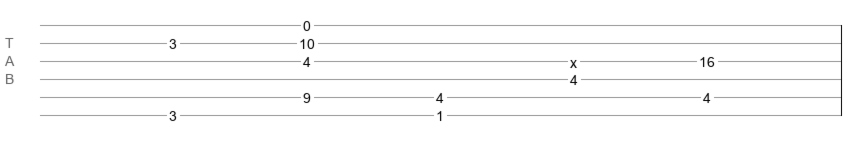0: (303, 18, 311, 28)
1: (436, 108, 444, 118)
10: (299, 36, 315, 46)
16: (699, 54, 715, 64)
3: (169, 108, 177, 118), (169, 36, 177, 46)
4: (303, 54, 311, 64), (436, 90, 444, 100), (570, 72, 578, 82), (703, 90, 711, 100)
9: (303, 90, 311, 100)
x: (570, 55, 577, 63)
